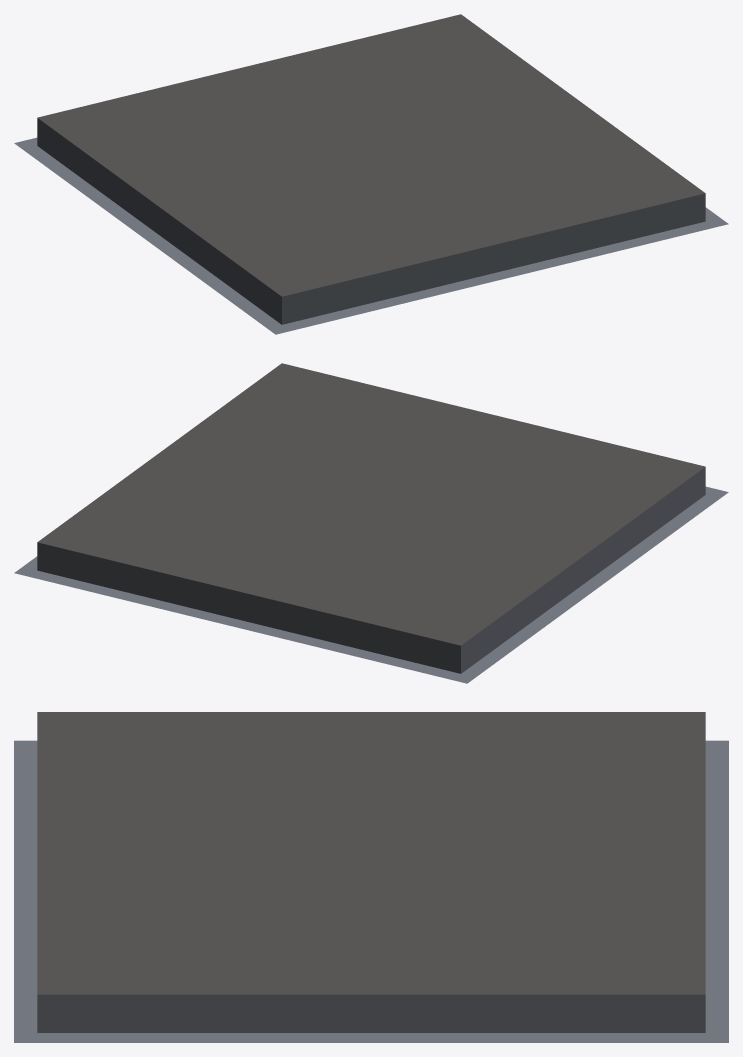
File: AI_Env_Bunker_Roof.fbx
3 views of the same model, one above another, from view 1: azimuth 30°, elevation 25°; view 2: azimuth 150°, elevation 25°; view 3: azimuth 270°, elevation 25° (orthographic). The views are drawn at different scales.
Parts seen in each view (by area): view 1: AI_Env_Bunker_Roof; view 2: AI_Env_Bunker_Roof; view 3: AI_Env_Bunker_Roof.
Part boxes in pixels (x1=…): AI_Env_Bunker_Roof: x1=14, y1=14, x2=728, y2=334; AI_Env_Bunker_Roof: x1=14, y1=363, x2=728, y2=683; AI_Env_Bunker_Roof: x1=14, y1=712, x2=728, y2=1042.
Size of the model in its own units: 5 by 0.2973 by 5.
